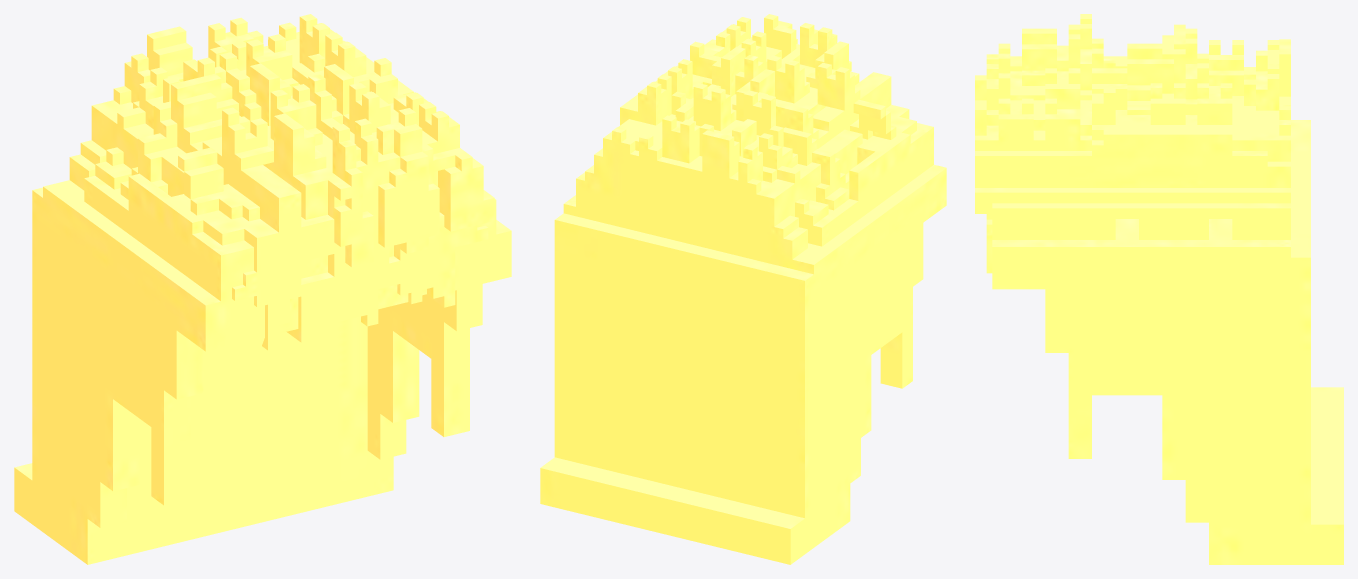
Rendered from mullet_blonde.glb.
3 views of the same model, side by side, from view 1: azimuth 30°, elevation 25°; view 2: azimuth 150°, elevation 25°; view 3: azimuth 270°, elevation 25° (orthographic). The views are drawn at different scales.
Parts seen in each view (by area): view 1: blonde_mullet; view 2: blonde_mullet; view 3: blonde_mullet.
Boxes of the visible parts, box(x1,y1,x2,y2) form: blonde_mullet: box(14, 14, 511, 564); blonde_mullet: box(540, 14, 946, 564); blonde_mullet: box(975, 14, 1343, 564).
Bounding box in the file's own units: 2.78 × 4.2 × 3.15.
Materials: 1 (1 with a texture image).
